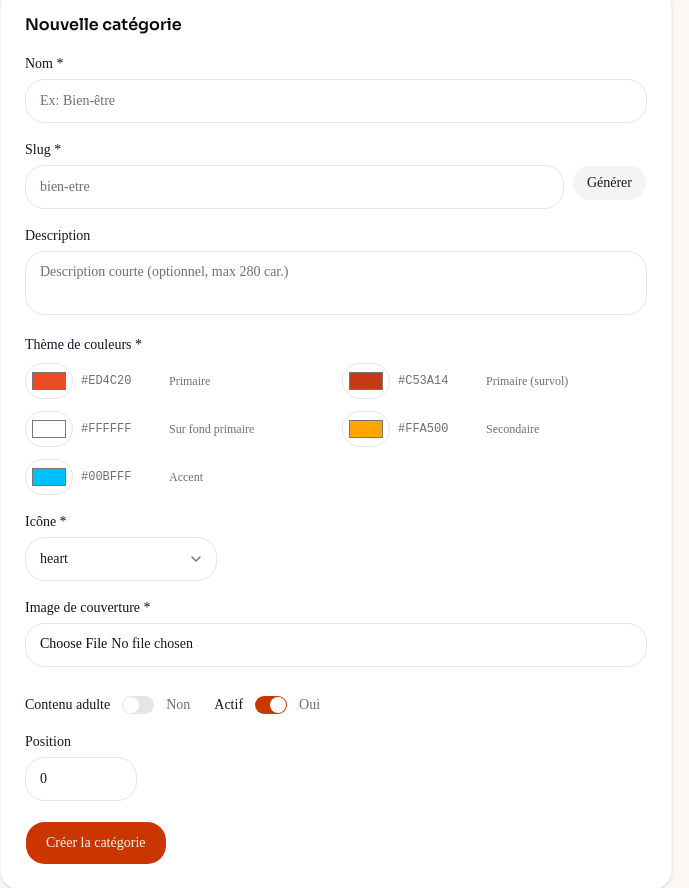
it: CategoriesManager › refuse la création avec un nom vide — create n'est pas appelé
# Soumettre sans remplir le nom (valeur par défaut : "").
Step 1. Click the button "Créer la catégorie" → (96, 843), box [25, 821, 166, 865]
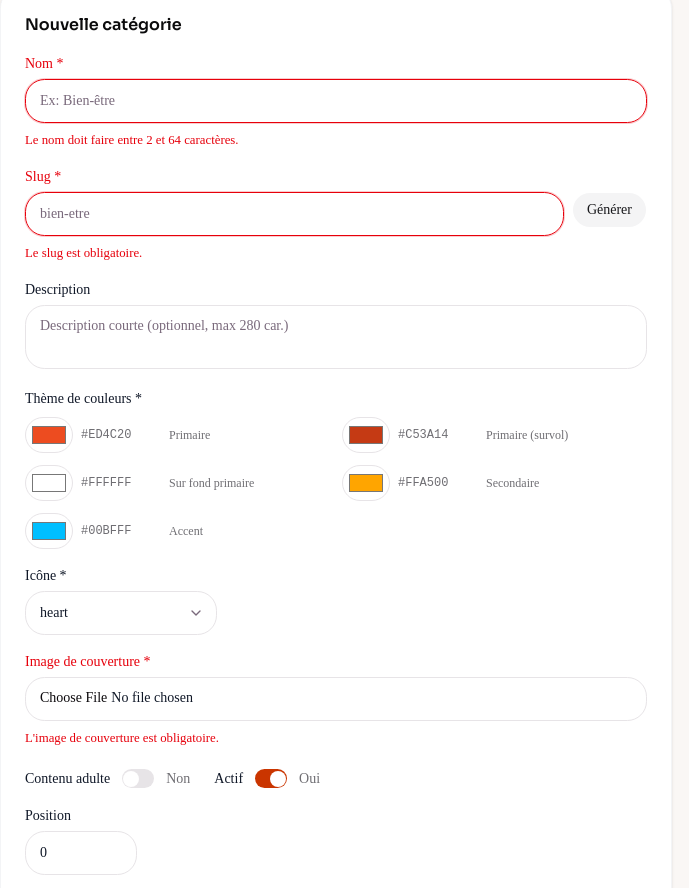
Check: the text "Le nom doit faire entre 2 et 64 caractères." is shown, box [25, 133, 238, 147]
